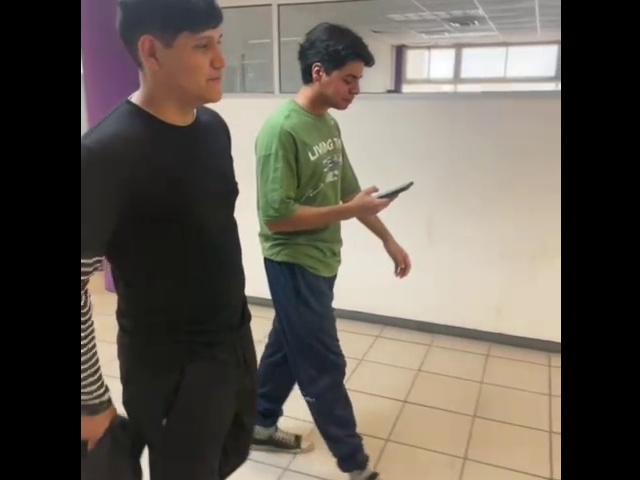mixto2: (370, 175, 418, 205)
